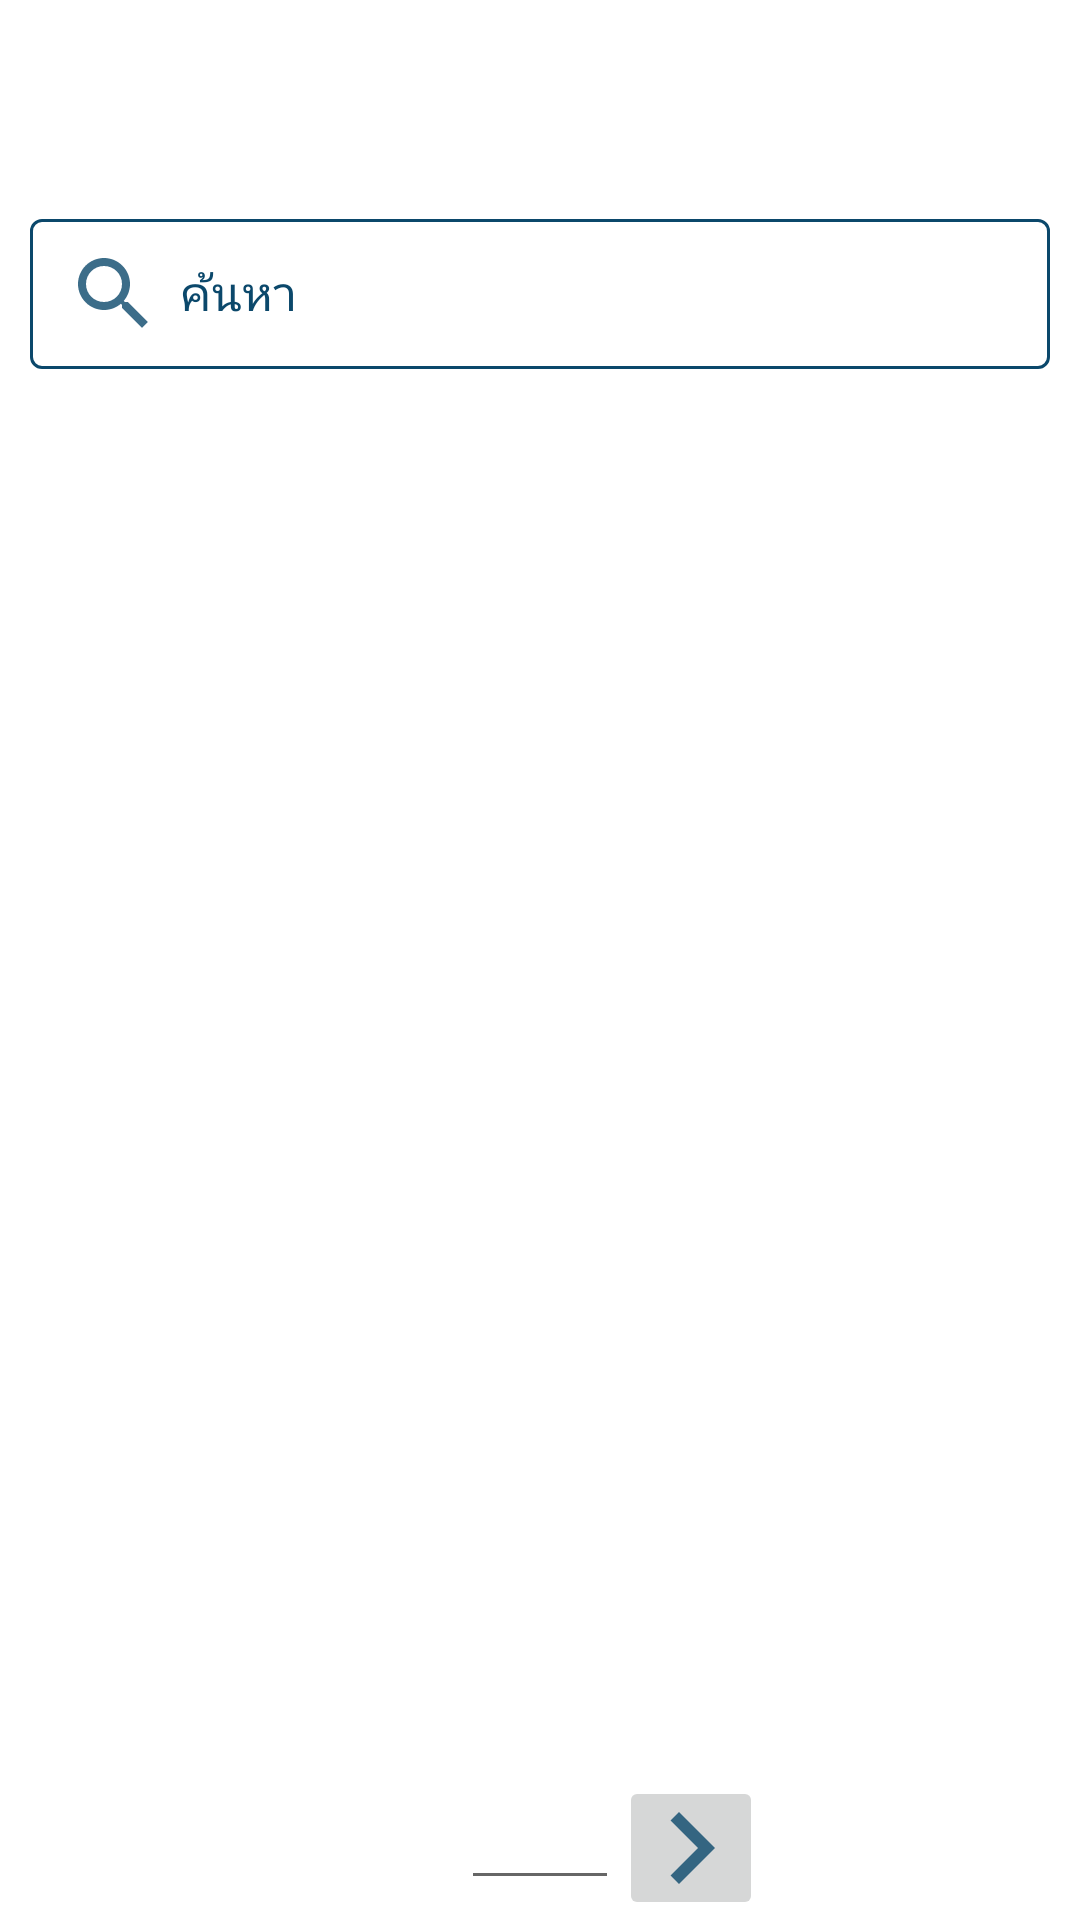

Where icons sit on this 1080 x 1920 app screen, as (x1=x1, y1=y1, x2=x2, y2=y2):
arrow right: (x1=631, y1=1794, x2=751, y2=1902)
